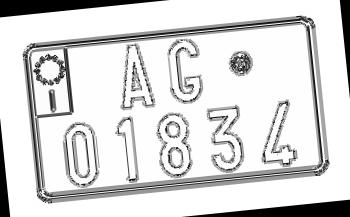plate: (32, 22, 323, 203)
